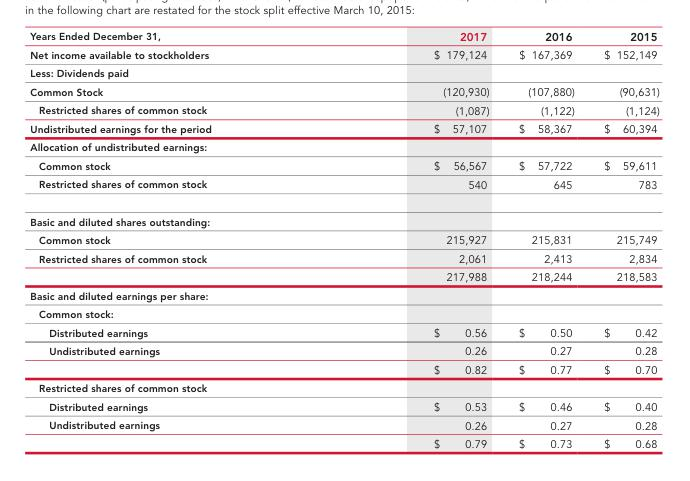table: (29, 29, 658, 450)
table column: (29, 29, 321, 450), (321, 29, 503, 450), (503, 29, 588, 450), (588, 29, 658, 450)
table column header: (29, 29, 658, 45)
table projected row header: (29, 203, 658, 230), (29, 138, 658, 156), (29, 286, 658, 304), (29, 304, 658, 322), (29, 378, 658, 396), (29, 64, 658, 81)
table row: (29, 175, 658, 203), (29, 203, 658, 230), (29, 81, 658, 101), (29, 45, 658, 64), (29, 119, 658, 138), (29, 156, 658, 175), (29, 230, 658, 249), (29, 267, 658, 286), (29, 322, 658, 341), (29, 341, 658, 360), (29, 396, 658, 415), (29, 415, 658, 434), (29, 101, 658, 119), (29, 138, 658, 156), (29, 249, 658, 267), (29, 286, 658, 304), (29, 304, 658, 322), (29, 360, 658, 378), (29, 378, 658, 396), (29, 64, 658, 81), (29, 29, 658, 45), (29, 434, 658, 450)
